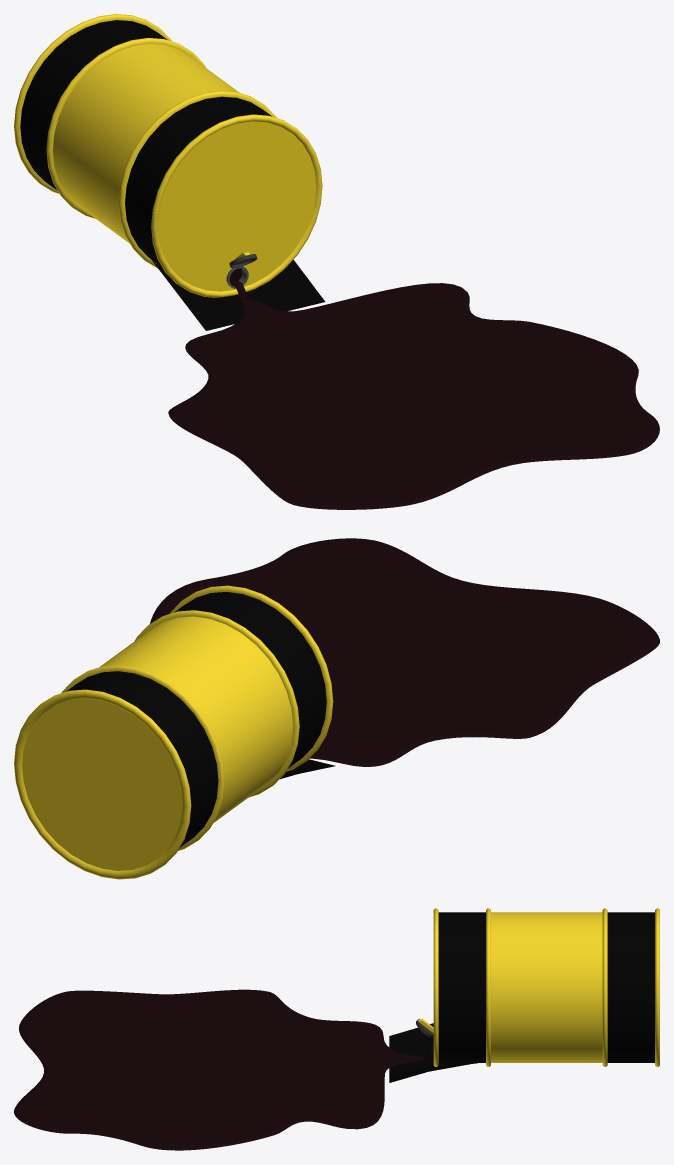
The model's file is FireTrap.fbx.
3 views of the same model, one above another, from view 1: azimuth 30°, elevation 25°; view 2: azimuth 150°, elevation 25°; view 3: azimuth 270°, elevation 25° (orthographic). The views are drawn at different scales.
Visible parts, largest first — view 1: Trap_FireTrap_Spill, Trap_FireTrap_Barrel, Trap_FireTrap_Label; view 2: Trap_FireTrap_Barrel, Trap_FireTrap_Spill; view 3: Trap_FireTrap_Spill, Trap_FireTrap_Barrel, Trap_FireTrap_Label.
Boxes of the visible parts, x1,y1,x2,y2 form: Trap_FireTrap_Spill: [168, 280, 659, 509]; Trap_FireTrap_Barrel: [14, 14, 322, 297]; Trap_FireTrap_Label: [151, 259, 325, 330]; Trap_FireTrap_Barrel: [14, 585, 333, 879]; Trap_FireTrap_Spill: [150, 538, 659, 766]; Trap_FireTrap_Spill: [14, 989, 433, 1150]; Trap_FireTrap_Barrel: [416, 908, 659, 1066]; Trap_FireTrap_Label: [389, 1023, 477, 1082].
Size of the model in its own units: 0.1009 by 0.0421 by 0.1712.
2 materials, 2 textured.
